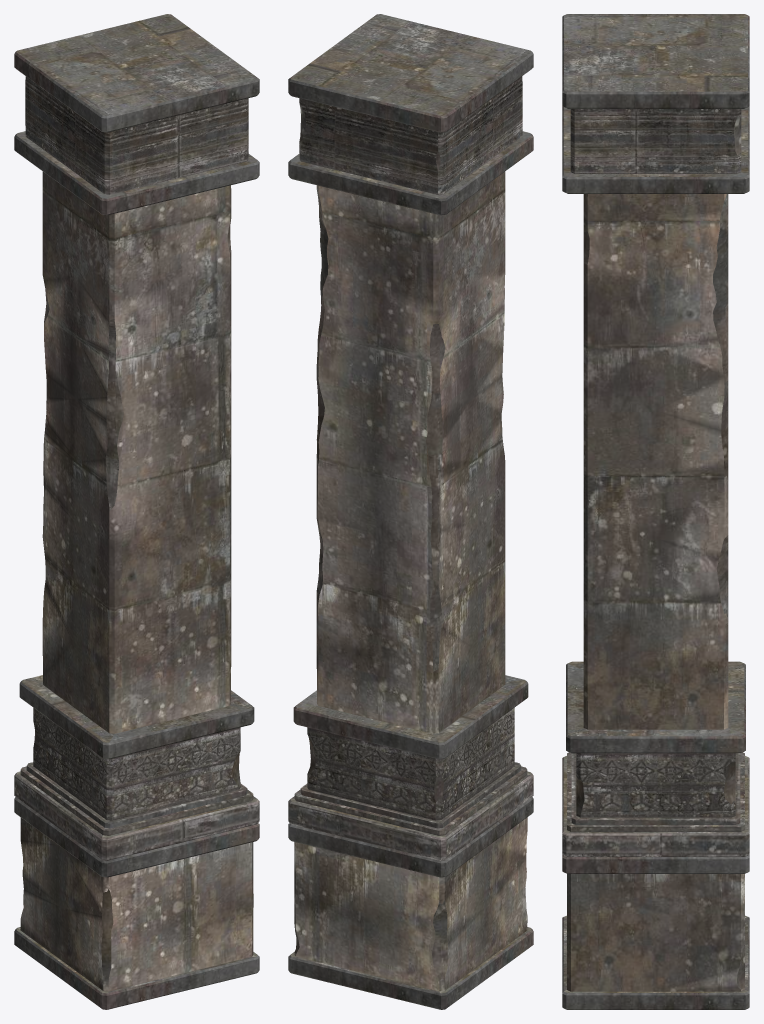
File: cargo_ruin_column_a.glb
3 renders of one model, left to right at view 1: azimuth 30°, elevation 25°; view 2: azimuth 150°, elevation 25°; view 3: azimuth 270°, elevation 25°, orthographic. The views are drawn at different scales.
Parts seen in each view (by area): view 1: KB3D_SOL_PropRuinColumn_A; view 2: KB3D_SOL_PropRuinColumn_A; view 3: KB3D_SOL_PropRuinColumn_A.
Part boxes in pixels (x1=…): KB3D_SOL_PropRuinColumn_A: x1=14, y1=14, x2=259, y2=1009; KB3D_SOL_PropRuinColumn_A: x1=288, y1=14, x2=533, y2=1009; KB3D_SOL_PropRuinColumn_A: x1=562, y1=14, x2=749, y2=1009.
Bounding box in the file's own units: 3 × 16.2 × 3.
Materials: 4 (4 with a texture image).
